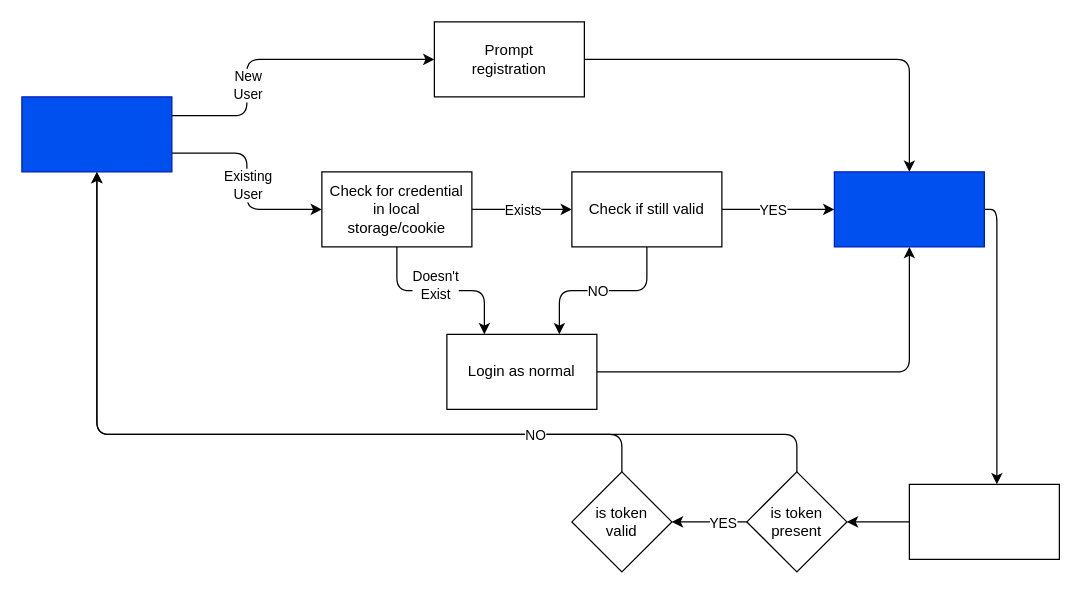
The diagram is 1081 pixels wide and 594 high, and some of its shapes have lost their labels. Each missing label, with the centre of its shape:
"On API use" belongs at pixel 983 521.
"Route: /" belongs at pixel 96 134.
"Route: /dashboard" belongs at pixel 908 209.
